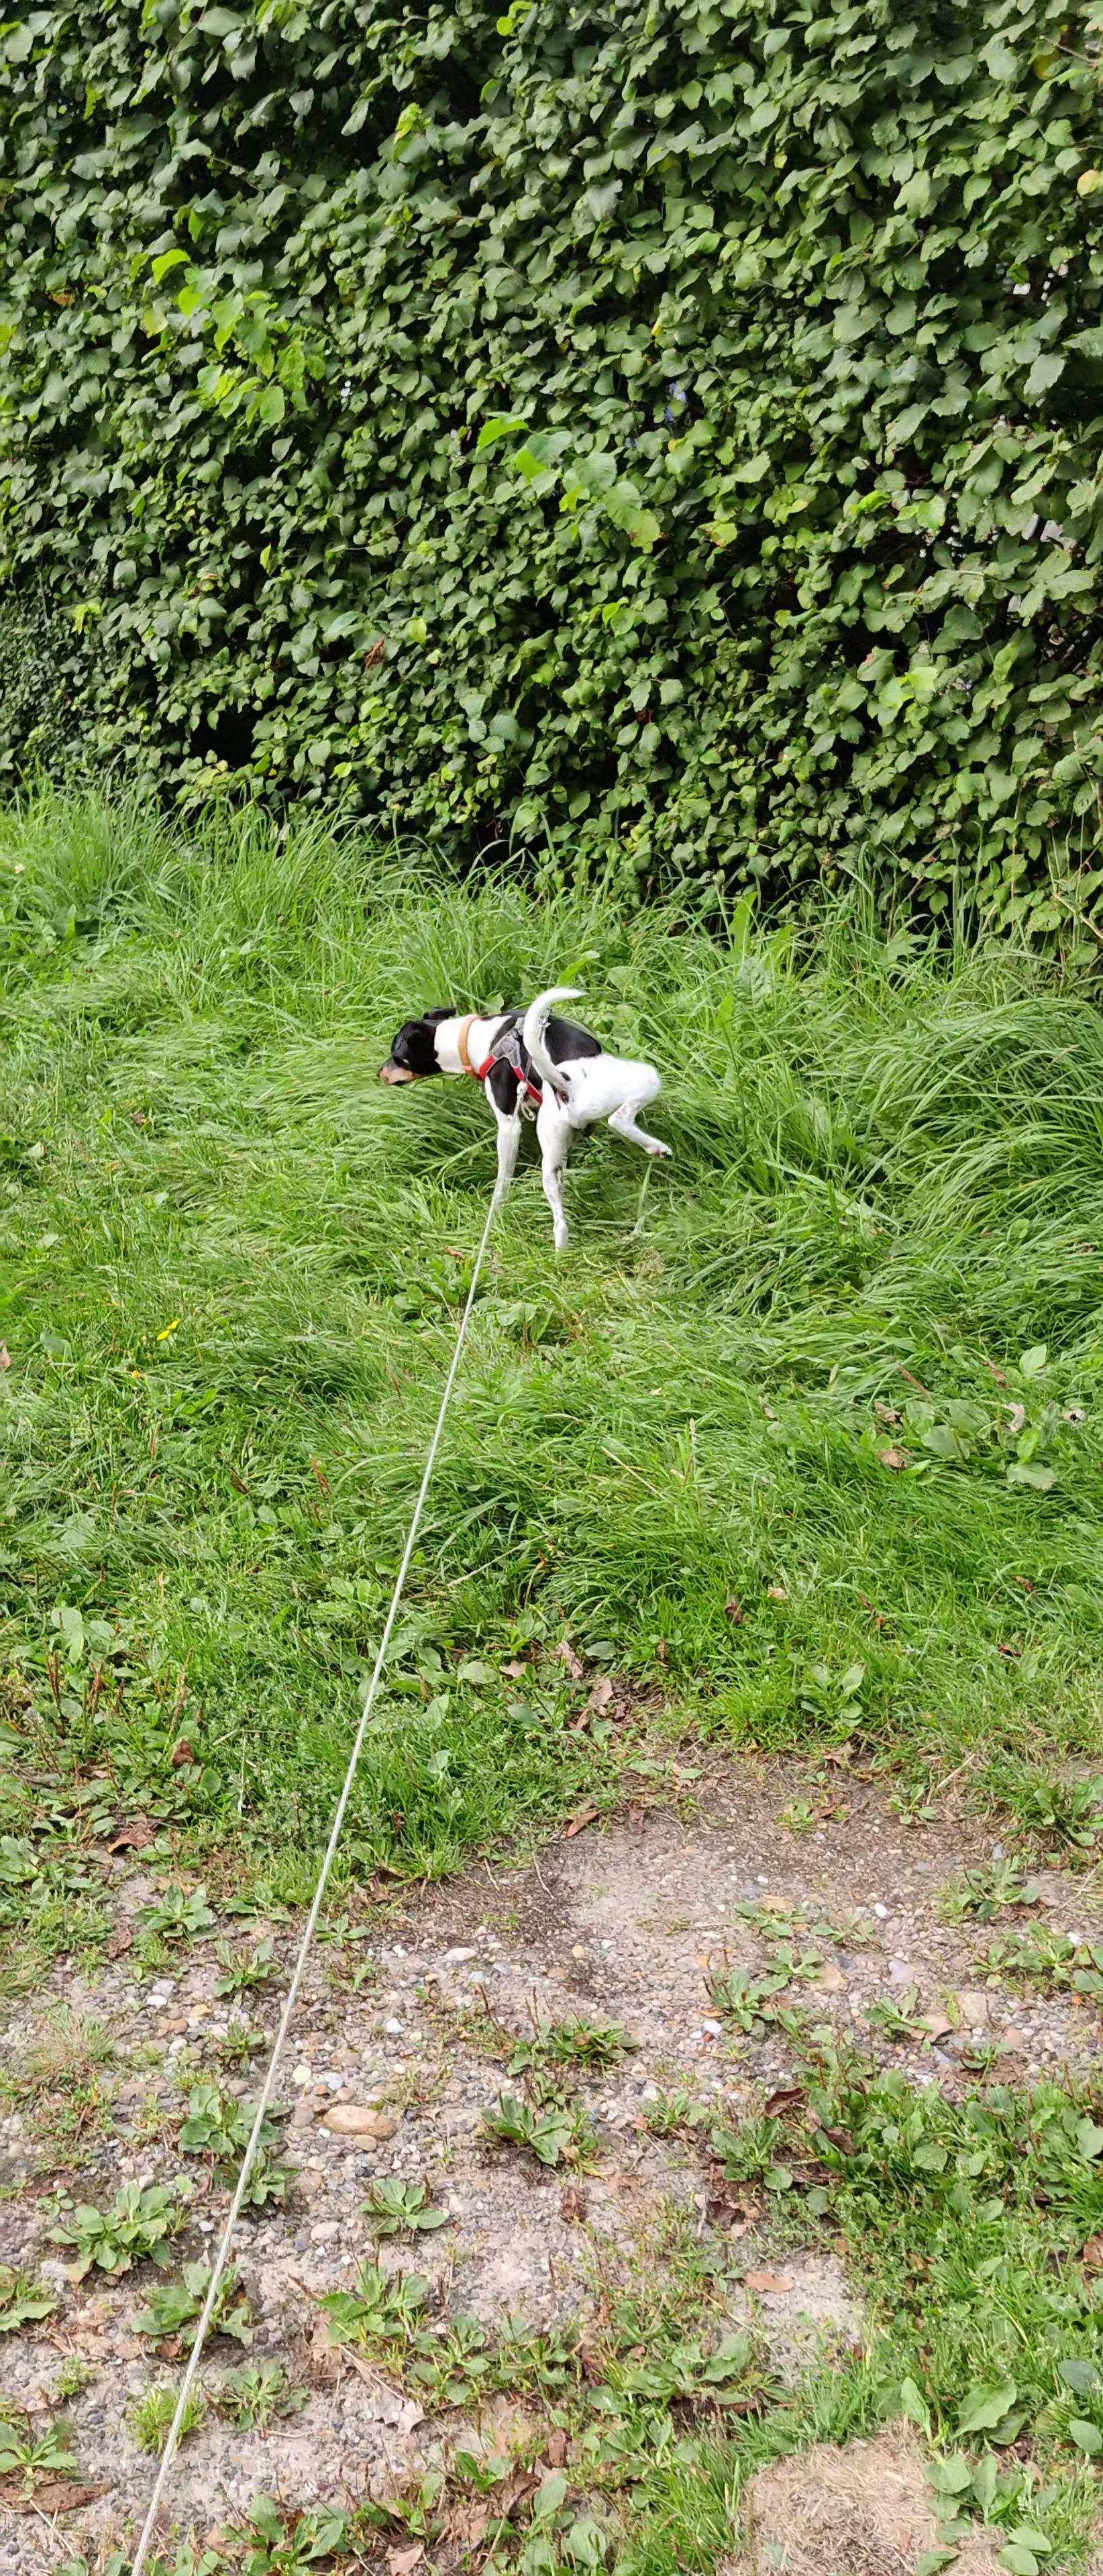Dog: (368, 963, 687, 1265)
